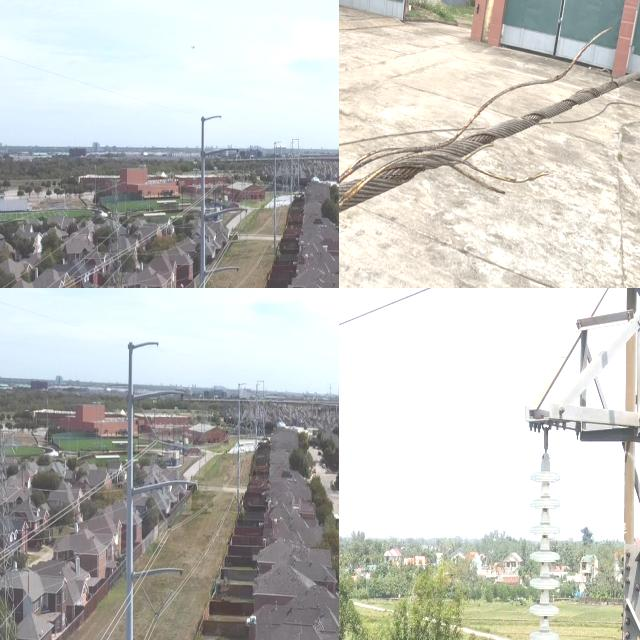杆塔: (520, 288, 640, 640), (0, 413, 22, 640), (95, 172, 134, 288)
正常电缆: (339, 288, 459, 340)
正常绝缘子: (524, 429, 564, 640), (141, 583, 160, 619), (153, 411, 175, 442), (154, 496, 173, 531), (166, 501, 187, 531), (141, 407, 160, 440), (155, 589, 174, 619), (209, 275, 219, 288), (226, 277, 234, 288)
电缆破损: (339, 16, 632, 235)
